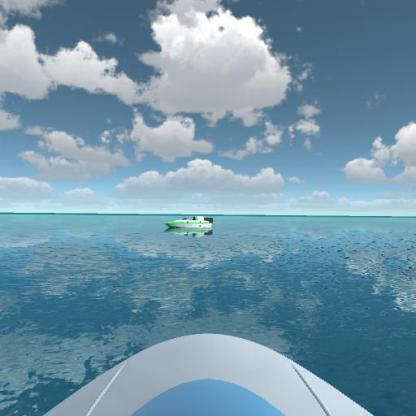usv0: (160, 208, 217, 242)
